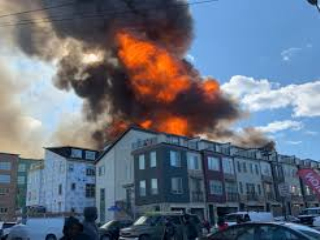fire: (120, 37, 219, 135)
smoke: (25, 2, 126, 143)
